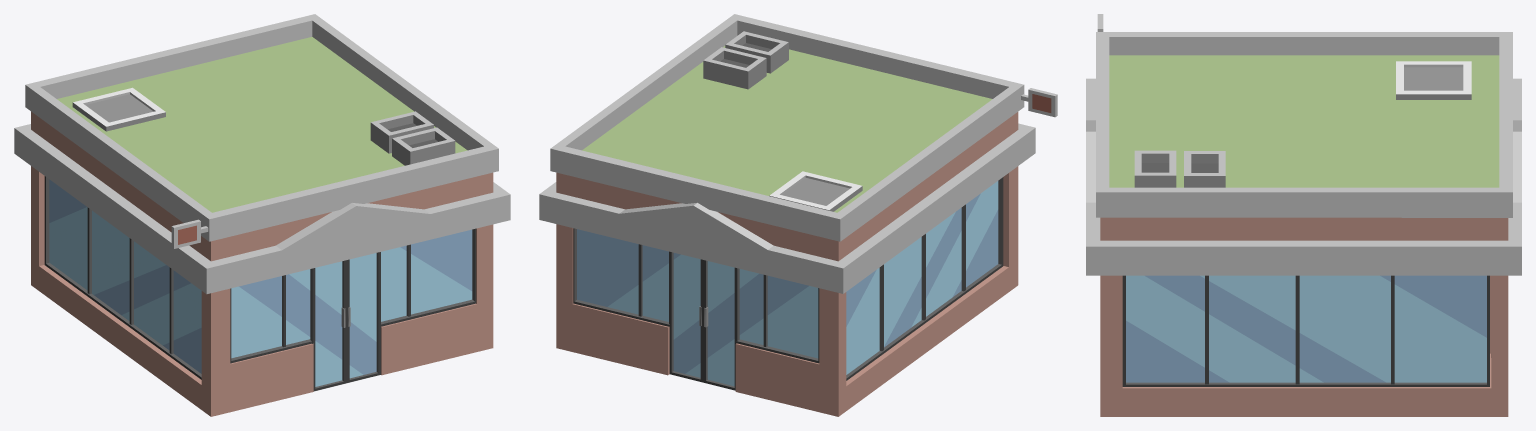
The model's file is cafe_001.fbx.
3 views of the same model, side by side, from view 1: azimuth 30°, elevation 25°; view 2: azimuth 150°, elevation 25°; view 3: azimuth 270°, elevation 25° (orthographic). The views are drawn at different scales.
Parts seen in each view (by area): view 1: cafe_001; view 2: cafe_001; view 3: cafe_001.
Boxes of the visible parts, <box> form: cafe_001: <box>14,14,510,416</box>; cafe_001: <box>539,14,1057,416</box>; cafe_001: <box>1086,14,1521,416</box>.
Size of the model in its own units: 594 by 346 by 597.
